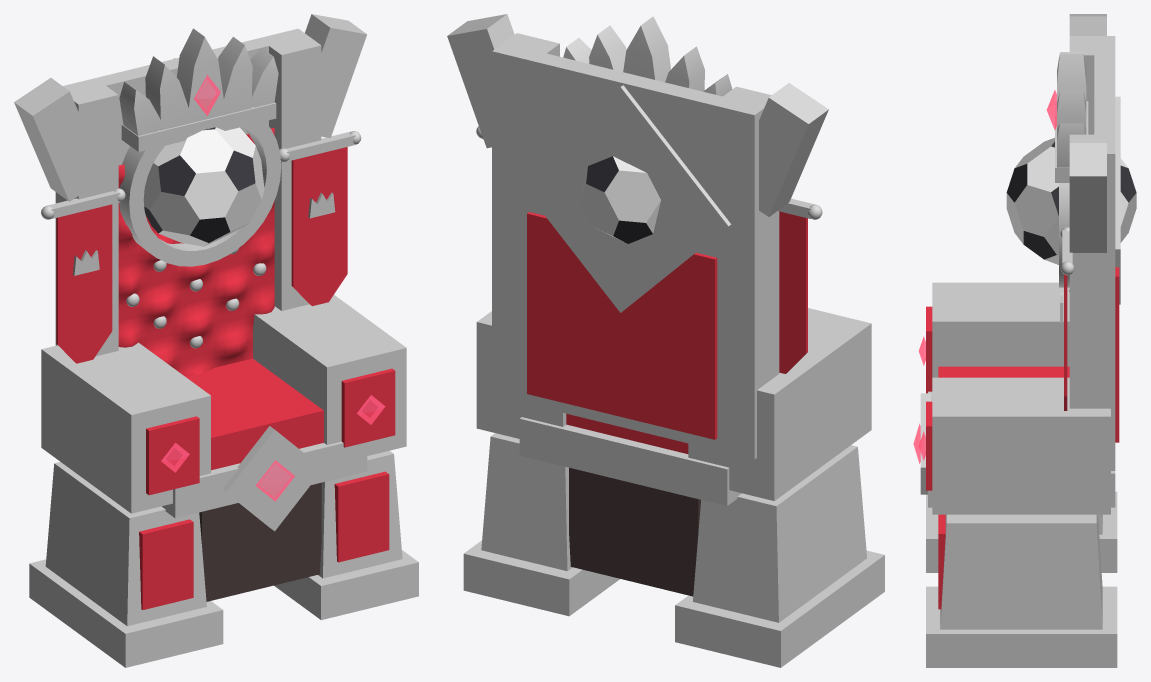
File: RoyalFootballThrone.glb
3 views of the same model, side by side, from view 1: azimuth 30°, elevation 25°; view 2: azimuth 150°, elevation 25°; view 3: azimuth 270°, elevation 25° (orthographic). The views are drawn at different scales.
Parts seen in each view (by area): view 1: Armrest_L, Tuft_Panel, Pillar_L, Armrest_R, Soccer_Ball, Underside_Hollow, Cushion_Red, Foot_L, Banner_R, Banner_L, Backrest_Post_R, Ring_Emblem (+22 smaller); view 2: Backboard, Back_Panel, Back_Ring_Disc, Pillar_L, Armrest_L, Underside_Hollow, Foot_L, Pillar_R, Seat_Frame, Foot_R, WingSpike_L, Soccer_Ball (+9 smaller); view 3: Armrest_R, Pillar_R, Armrest_L, Foot_R, Backboard, Soccer_Ball, Backrest_Post_R, WingSpike_R, Foot_L, Cushion_Red, Backrest_Post_L, Crown_Peak_Center (+12 smaller).
Boxes of the visible parts, x1=… form: Armrest_L: x1=41, y1=342, x2=210, y2=513; Tuft_Panel: x1=118, y1=127, x2=274, y2=376; Pillar_L: x1=45, y1=461, x2=206, y2=626; Armrest_R: x1=253, y1=295, x2=406, y2=455; Soccer_Ball: x1=143, y1=127, x2=264, y2=246; Underside_Hollow: x1=199, y1=482, x2=321, y2=601; Cushion_Red: x1=185, y1=359, x2=323, y2=470; Foot_L: x1=29, y1=559, x2=223, y2=667; Banner_R: x1=291, y1=147, x2=347, y2=306; Banner_L: x1=56, y1=204, x2=112, y2=363; Backrest_Post_R: x1=267, y1=36, x2=321, y2=310; Ring_Emblem: x1=119, y1=121, x2=281, y2=266; Backboard: x1=492, y1=43, x2=765, y2=459; Back_Panel: x1=527, y1=212, x2=717, y2=439; Back_Ring_Disc: x1=513, y1=85, x2=731, y2=312; Pillar_L: x1=693, y1=445, x2=866, y2=622; Armrest_L: x1=688, y1=308, x2=871, y2=500; Underside_Hollow: x1=569, y1=467, x2=700, y2=596; Foot_L: x1=675, y1=550, x2=884, y2=667; Pillar_R: x1=481, y1=433, x2=572, y2=571; Seat_Frame: x1=519, y1=417, x2=741, y2=505; Foot_R: x1=463, y1=540, x2=619, y2=616; WingSpike_L: x1=759, y1=83, x2=828, y2=216; Soccer_Ball: x1=580, y1=156, x2=660, y2=243; Armrest_R: x1=932, y1=377, x2=1110, y2=514; Pillar_R: x1=940, y1=514, x2=1102, y2=629; Armrest_L: x1=932, y1=282, x2=1069, y2=377; Foot_R: x1=926, y1=586, x2=1117, y2=667; Backboard: x1=1094, y1=36, x2=1115, y2=470; Soccer_Ball: x1=1006, y1=137, x2=1136, y2=264; Backrest_Post_R: x1=1069, y1=134, x2=1098, y2=408; WingSpike_R: x1=1069, y1=143, x2=1106, y2=252; Foot_L: x1=926, y1=491, x2=1117, y2=572; Cushion_Red: x1=938, y1=366, x2=1069, y2=377; Backrest_Post_L: x1=1069, y1=36, x2=1098, y2=134; Crown_Peak_Center: x1=1057, y1=53, x2=1086, y2=101.
Bounding box in the file's own units: 1.85 × 2.88 × 1.07.
